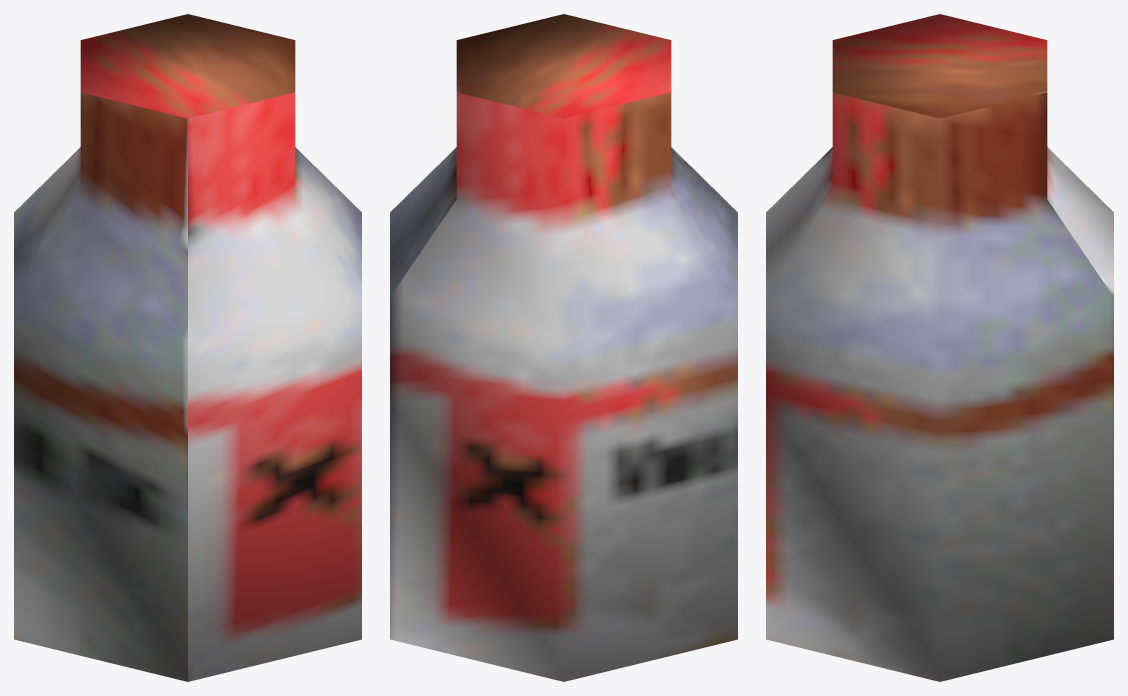
The model's file is chemicals.obj.
3 views of the same model, side by side, from view 1: azimuth 30°, elevation 25°; view 2: azimuth 150°, elevation 25°; view 3: azimuth 270°, elevation 25° (orthographic).
Parts seen in each view (by area): view 1: cylinder1; view 2: cylinder1; view 3: cylinder1.
Part boxes in pixels (x1,y1,x2,y2): cylinder1: (14,14,361,681); cylinder1: (390,14,737,681); cylinder1: (766,14,1113,681).
Bounding box in the file's own units: 1.92 × 2.8 × 1.66.
Materials: 1 (1 with a texture image).
